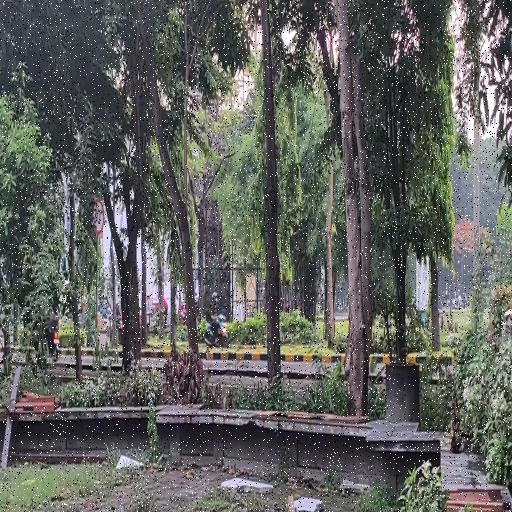Helmet: (212, 292, 217, 301)
Motor: (205, 314, 227, 347), (44, 314, 59, 361)
